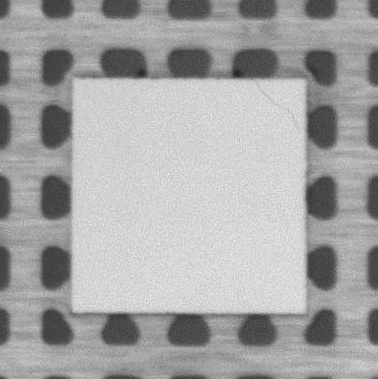DIE_CRACK: (255, 79, 302, 132)
